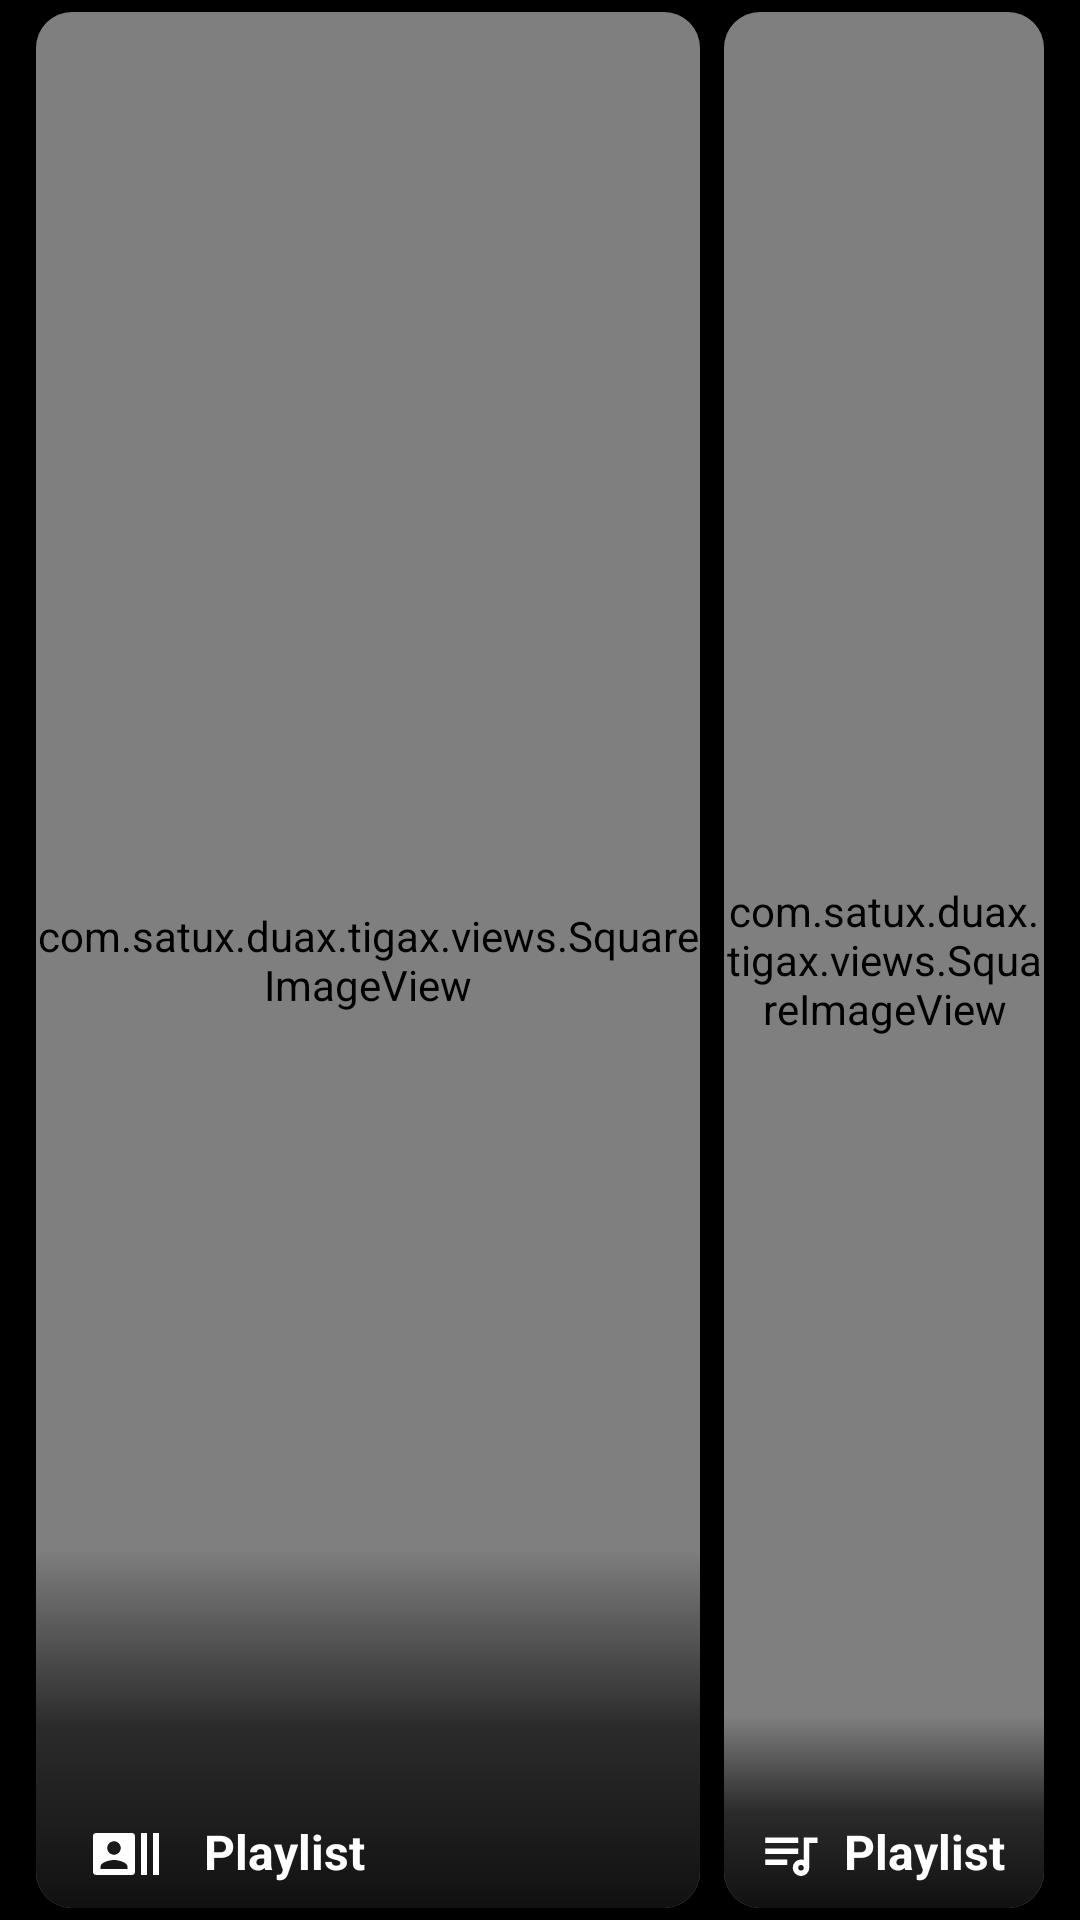

Icons on this 1080*1920 Android screen, each with its box as (x1,y1,x2,y2):
artists: (93,1833,159,1875)
